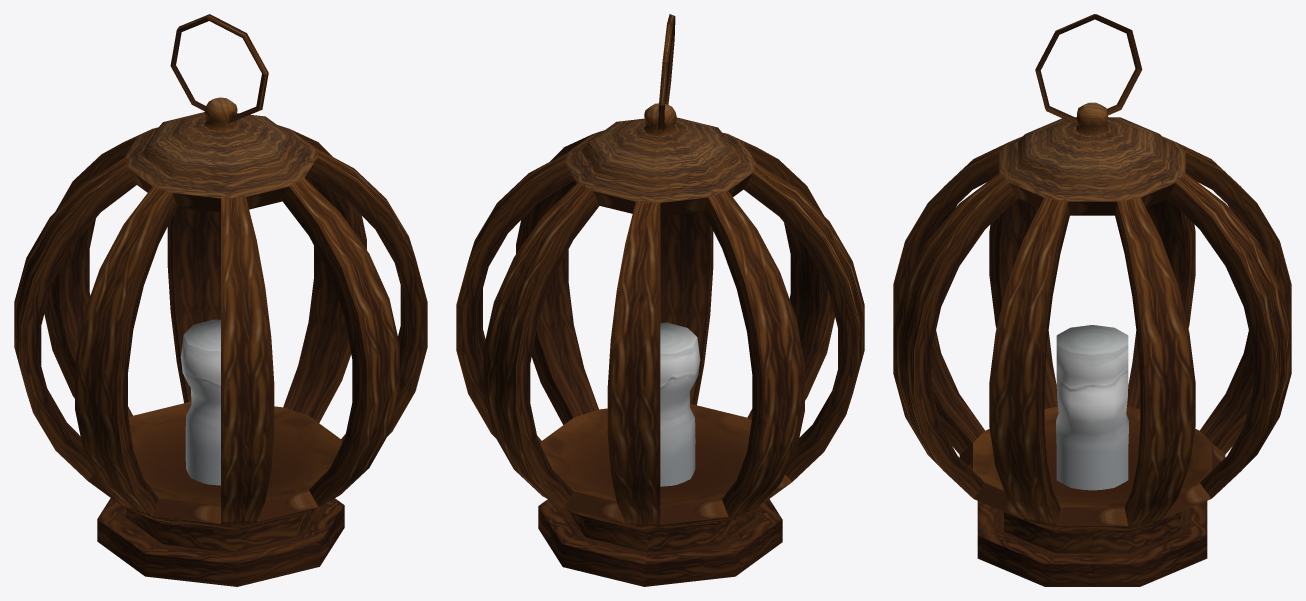
Rendered from MD_Lamp_02.fbx.
3 renders of one model, left to right at view 1: azimuth 30°, elevation 25°; view 2: azimuth 150°, elevation 25°; view 3: azimuth 270°, elevation 25°, orthographic.
Parts seen in each view (by area): view 1: pCylinder1; view 2: pCylinder1; view 3: pCylinder1.
Part boxes in pixels (x1,y1,x2,y2): pCylinder1: (14, 14, 427, 586); pCylinder1: (456, 14, 864, 586); pCylinder1: (893, 14, 1291, 586).
Size of the model in its own units: 21.1 by 30.39 by 21.1.
1 material, 1 textured.
